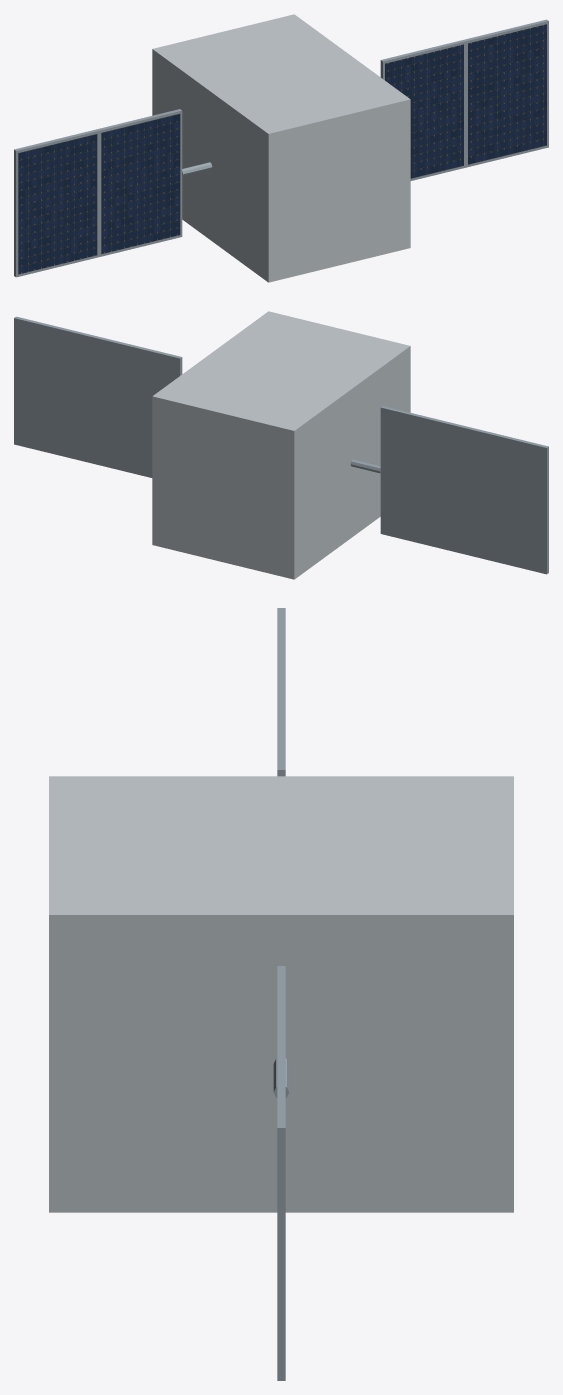
The model's file is ref-venms-42901.glb.
3 views of the same model, one above another, from view 1: azimuth 30°, elevation 25°; view 2: azimuth 150°, elevation 25°; view 3: azimuth 270°, elevation 25° (orthographic). The views are drawn at different scales.
Parts seen in each view (by area): view 1: Spacecraft body, Photovoltaic laminates (×4), Array frame (×4); view 2: Spacecraft body, Array frame (×4); view 3: Spacecraft body, Array frame.
Part boxes in pixels (box(x1,y1,x2,y2)): Spacecraft body: box(152, 14, 410, 282); Photovoltaic laminates (×4): box(18, 24, 546, 274); Array frame (×4): box(14, 19, 548, 277); Spacecraft body: box(152, 311, 410, 579); Array frame (×4): box(14, 316, 548, 574); Spacecraft body: box(49, 776, 513, 1212); Array frame: box(277, 1047, 285, 1380).
Size of the model in its own units: 4.5 by 1.2 by 1.7.
3 materials, 1 textured.
